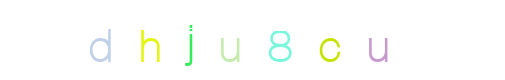8: (213, 0, 293, 80)
C: (239, 0, 319, 80)
D: (123, 0, 203, 80)
H: (150, 0, 230, 80)
J: (189, 0, 269, 80)
U: (191, 0, 271, 80), (337, 0, 417, 80)
